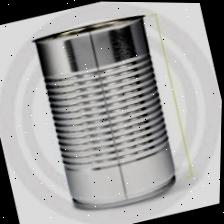metal: (15, 3, 196, 224)
